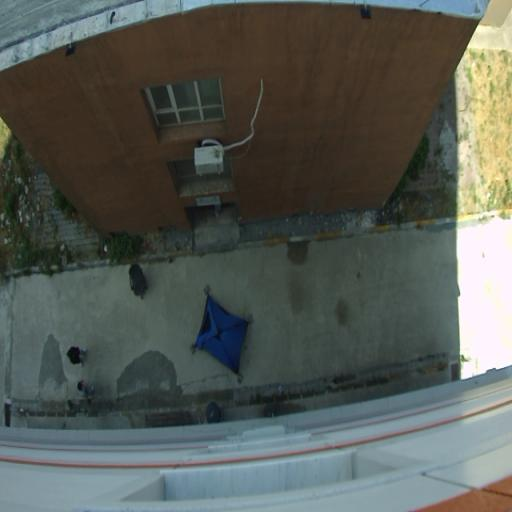tent: (188, 281, 256, 388)
